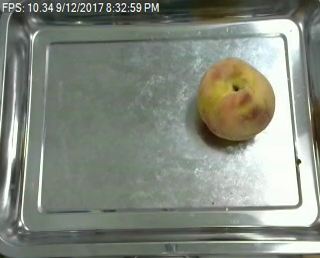Peach: (196, 56, 276, 140)
